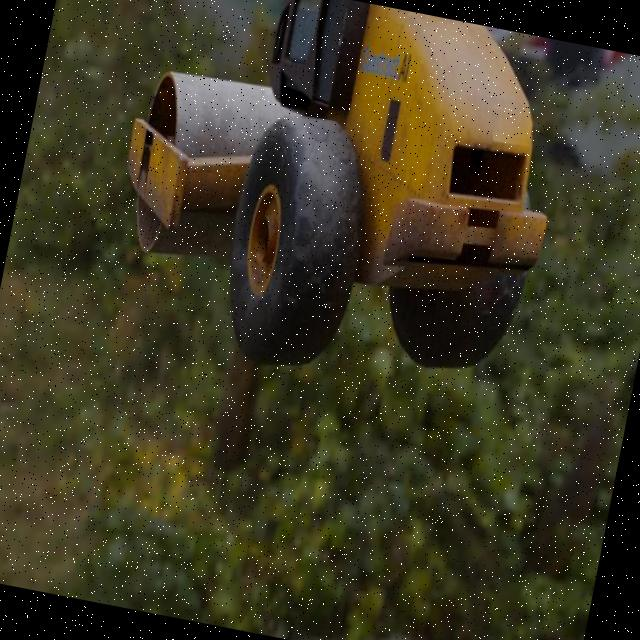Roller: (91, 0, 581, 415)
